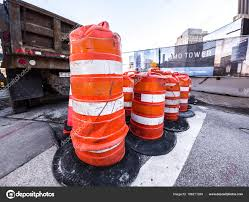barrel: (67, 26, 126, 142), (134, 72, 164, 139), (161, 76, 179, 121), (120, 70, 133, 125), (170, 73, 188, 112)
